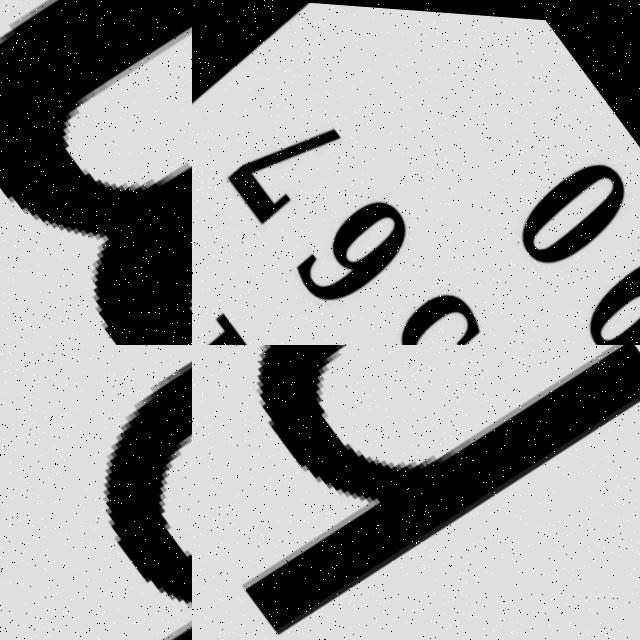0: (458, 114, 640, 302)
5: (323, 259, 505, 345)
6: (231, 157, 448, 345)
7: (192, 73, 380, 253)
9: (533, 208, 640, 345)
B: (94, 348, 192, 601)
H: (192, 345, 640, 640)
M: (0, 0, 192, 345)
